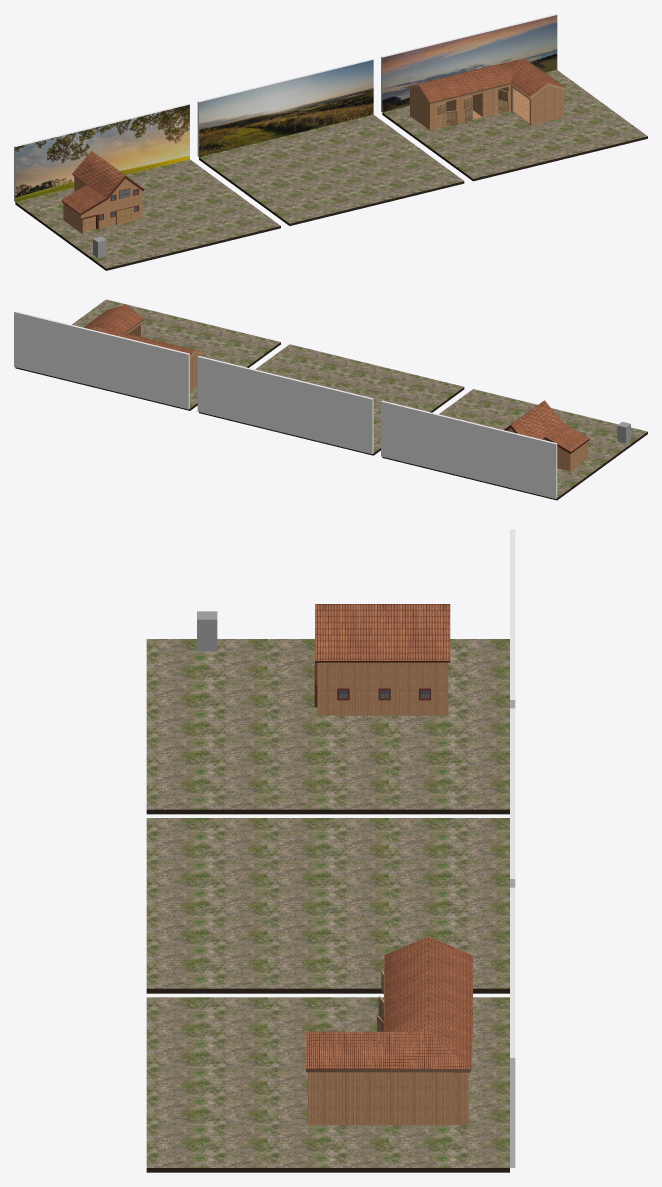
File: Field Level.fbx
The picture shows the model from 3 angles, top to bottom: view 1: azimuth 30°, elevation 25°; view 2: azimuth 150°, elevation 25°; view 3: azimuth 270°, elevation 25°; orthographic projection. The views are drawn at different scales.
Visible parts, largest first — view 1: pCube37, pCube32, pCube28, pCube41, pCube31, pCube38, pCube6, pCube35, pCube36, pCube39, polySurface6, pCube33 (+2 smaller); view 2: pCube37, pCube32, pCube41, pCube31, pCube38, pCube6, polySurface6, pCube28, pCube35, pCube33, pCube34, pCube36 (+1 smaller); view 3: pCube28, pCube31, pCube38, pCube35, pCube6, pCube36, pCube34, pCube33, polySurface6, pCube39, pCube40, pCube41 (+2 smaller).
Boxes of the visible parts, x1=… form: pCube37: x1=197, y1=59, x2=373, y2=156; pCube32: x1=14, y1=103, x2=189, y2=201; pCube28: x1=408, y1=58, x2=566, y2=130; pCube41: x1=381, y1=14, x2=557, y2=112; pCube31: x1=259, y1=159, x2=464, y2=225; pCube38: x1=443, y1=114, x2=647, y2=181; pCube6: x1=76, y1=204, x2=280, y2=270; pCube35: x1=229, y1=137, x2=433, y2=203; pCube36: x1=199, y1=114, x2=403, y2=181; pCube39: x1=412, y1=92, x2=617, y2=158; polySurface6: x1=61, y1=151, x2=144, y2=233; pCube33: x1=45, y1=181, x2=250, y2=248; pCube37: x1=197, y1=356, x2=373, y2=454; pCube32: x1=381, y1=400, x2=557, y2=498; pCube41: x1=14, y1=311, x2=189, y2=409; pCube31: x1=260, y1=344, x2=464, y2=410; pCube38: x1=76, y1=299, x2=280, y2=366; pCube6: x1=443, y1=389, x2=647, y2=455; polySurface6: x1=504, y1=400, x2=589, y2=471; pCube28: x1=84, y1=304, x2=204, y2=391; pCube35: x1=255, y1=366, x2=434, y2=425; pCube33: x1=439, y1=411, x2=617, y2=477; pCube34: x1=382, y1=457, x2=587, y2=500; pCube36: x1=199, y1=412, x2=380, y2=455; pCube28: x1=306, y1=936, x2=472, y2=1125; pCube31: x1=146, y1=818, x2=267, y2=993; pCube38: x1=146, y1=997, x2=267, y2=1172; pCube35: x1=267, y1=818, x2=388, y2=993; pCube6: x1=146, y1=639, x2=267, y2=814; pCube36: x1=389, y1=818, x2=509, y2=993; pCube34: x1=389, y1=639, x2=509, y2=814; pCube33: x1=267, y1=639, x2=388, y2=814; polySurface6: x1=314, y1=604, x2=450, y2=715; pCube39: x1=267, y1=997, x2=388, y2=1172; pCube40: x1=389, y1=997, x2=509, y2=1172; pCube41: x1=510, y1=887, x2=515, y2=1167.
Size of the model in its own units: 6200 by 626 by 1826.
